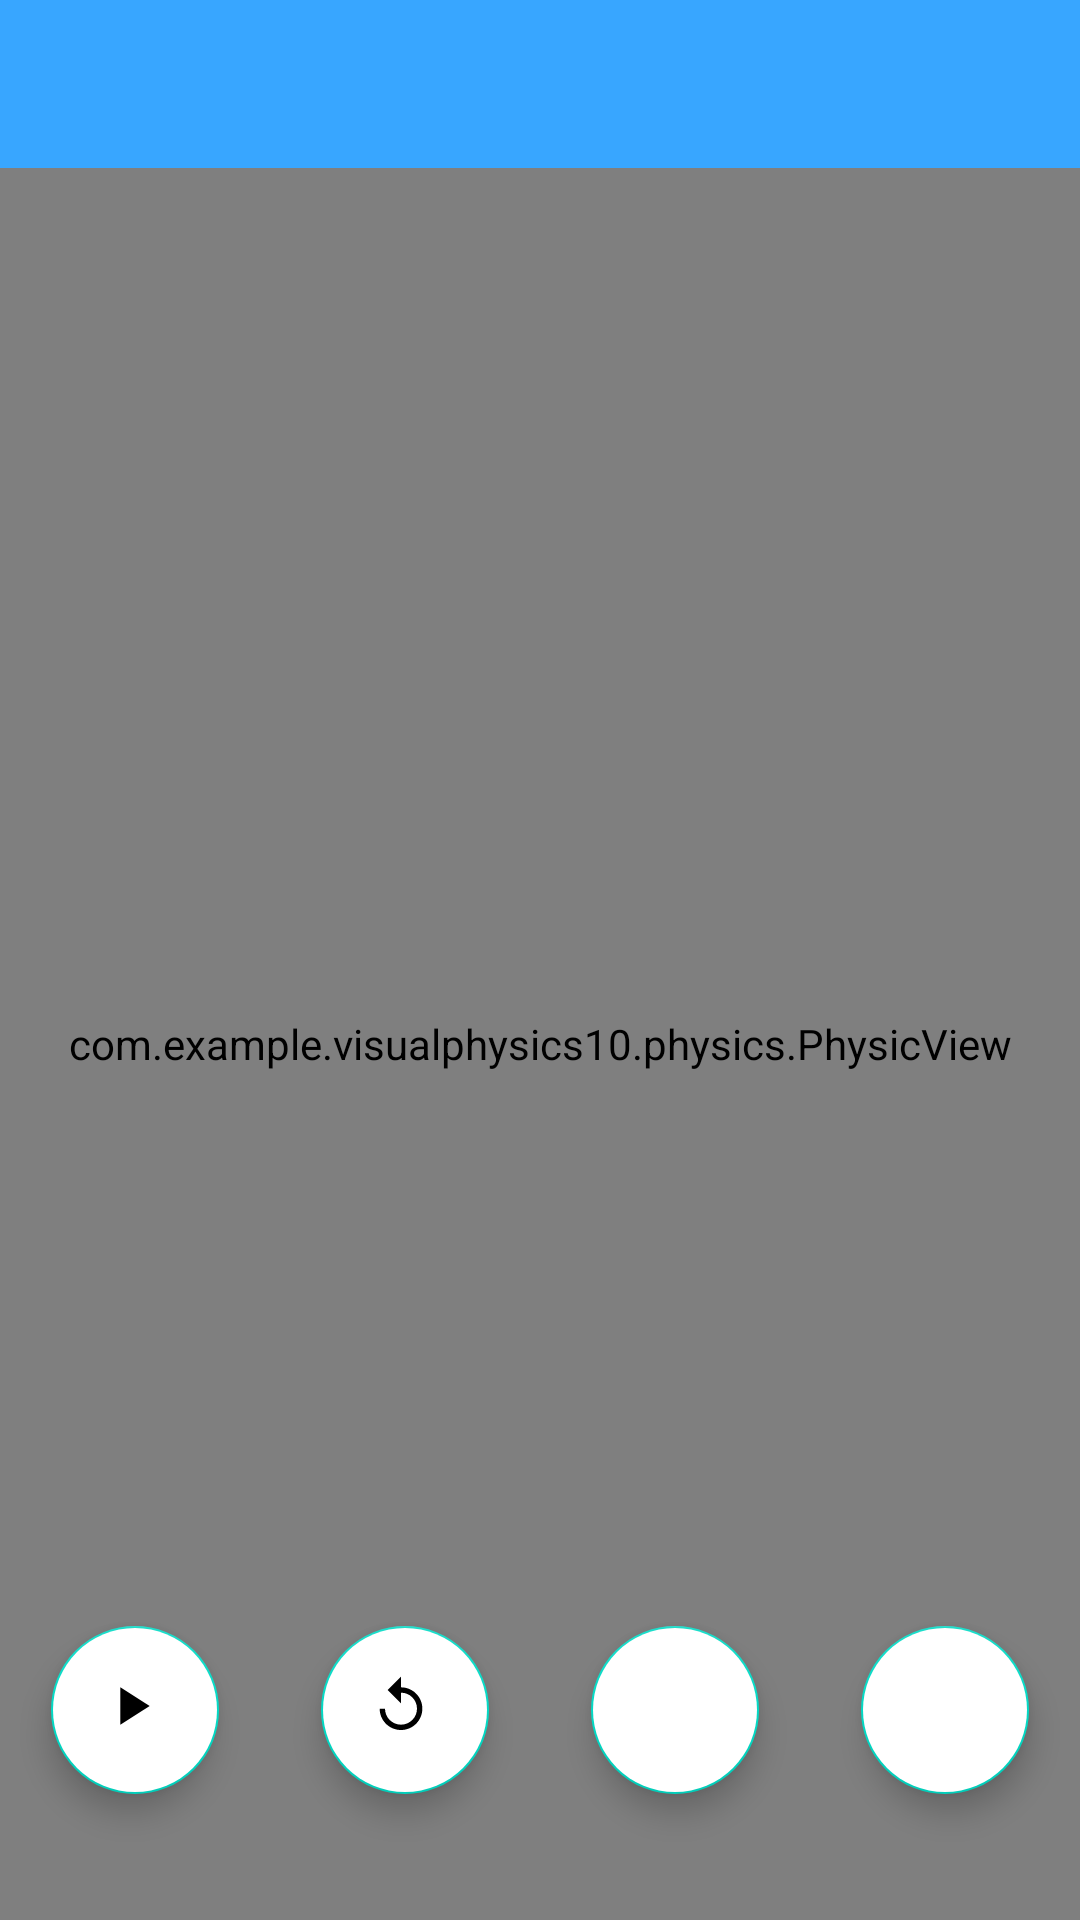

Icons on this 1080 x 1920 Android screen, each with its box as (x1, y1, x2, y2):
play arrow: (51, 1626, 219, 1795)
replay: (321, 1626, 489, 1795)
